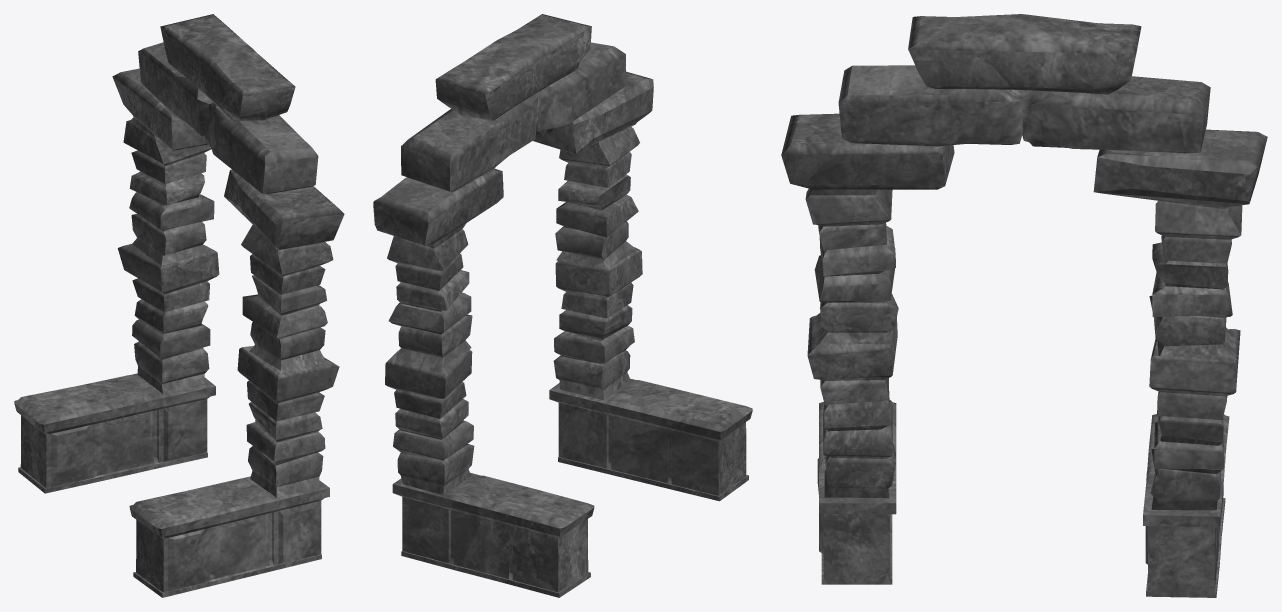
The model's file is Entrance.FBX.
The picture shows the model from 3 angles, left to right: view 1: azimuth 30°, elevation 25°; view 2: azimuth 150°, elevation 25°; view 3: azimuth 270°, elevation 25°; orthographic projection. The views are drawn at different scales.
Parts seen in each view (by area): view 1: pCube7; view 2: pCube7; view 3: pCube7.
Boxes of the visible parts, left/top/right/bottom form: pCube7: left=14, top=14, right=344, bottom=597; pCube7: left=373, top=14, right=752, bottom=597; pCube7: left=781, top=14, right=1267, bottom=597.
Bounding box in the file's own units: 202 × 442 × 351.
Materials: 1 (1 with a texture image).
